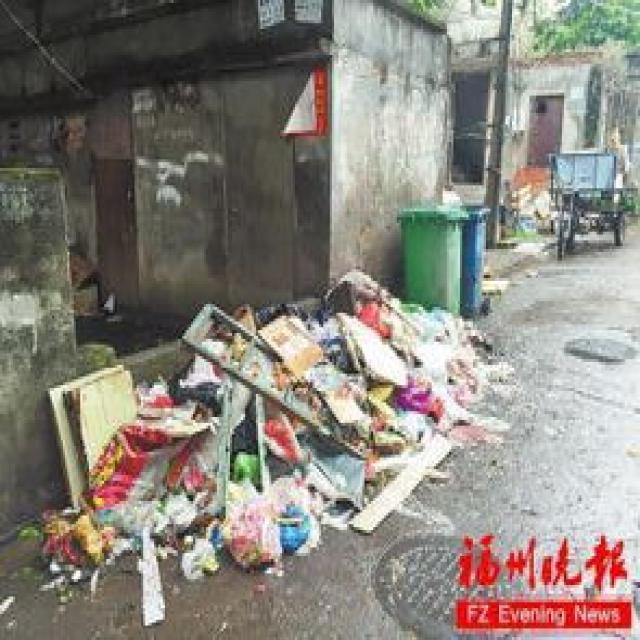garbage: (20, 266, 512, 622)
garbage_bin: (395, 200, 464, 307), (462, 205, 490, 310)
